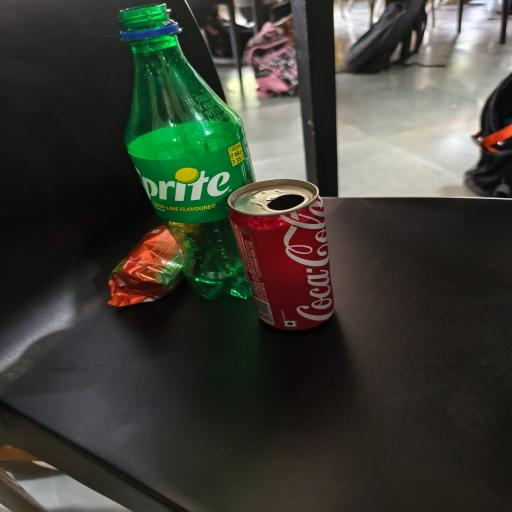Sprite: (119, 4, 254, 298)
coca_cola: (228, 179, 334, 331)
goodday: (108, 226, 183, 307)
